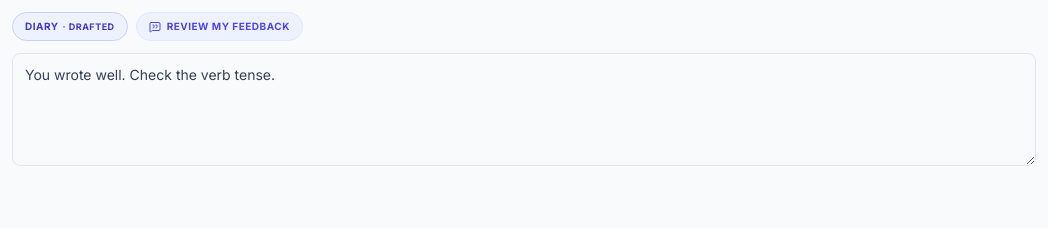
Test: fixable server error codes offer the action › entry_not_saved shows a button that calls the handler with save_draft
The width and height of the screenshot is (1048, 228).
Later steps or results of the test are not shown.
Click the button "Review my feedback". click: (219, 26)
box: [136, 12, 303, 41]
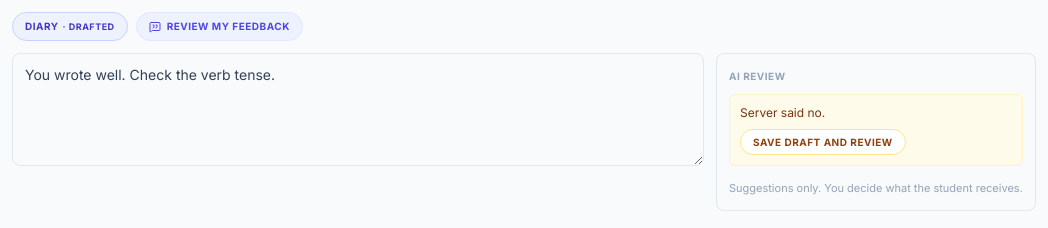
expect the text "Server said no." is shown: met, box [740, 105, 825, 120]
expect the button "Save draft and review" is shown: met, box [740, 129, 906, 155]
